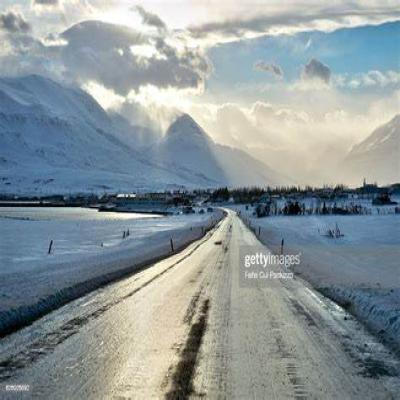iced-road: (0, 210, 400, 400)
